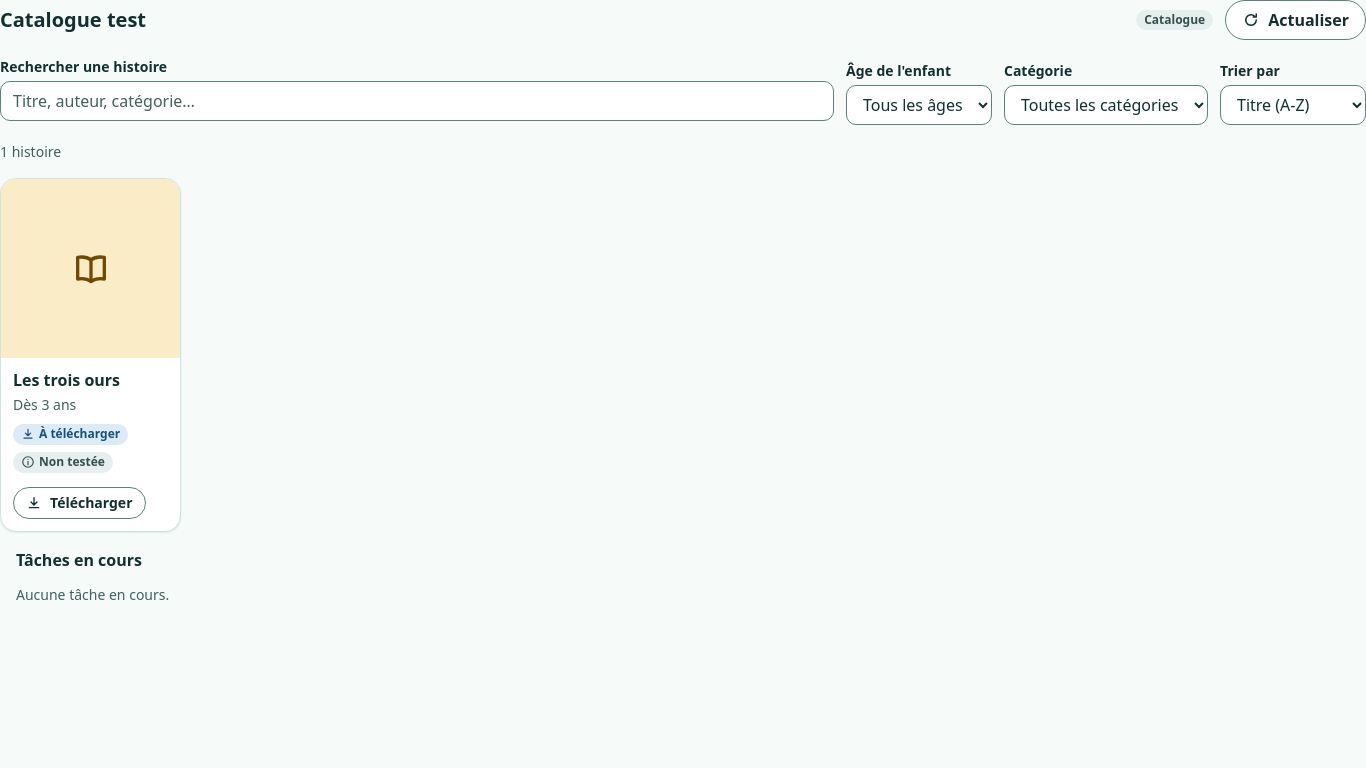
Scenario: erreur de conversion : message clair, Réessayer reprend « Télécharger et jouer »
Click the button "Les trois ours": [66, 380] box [13,370,120,390]
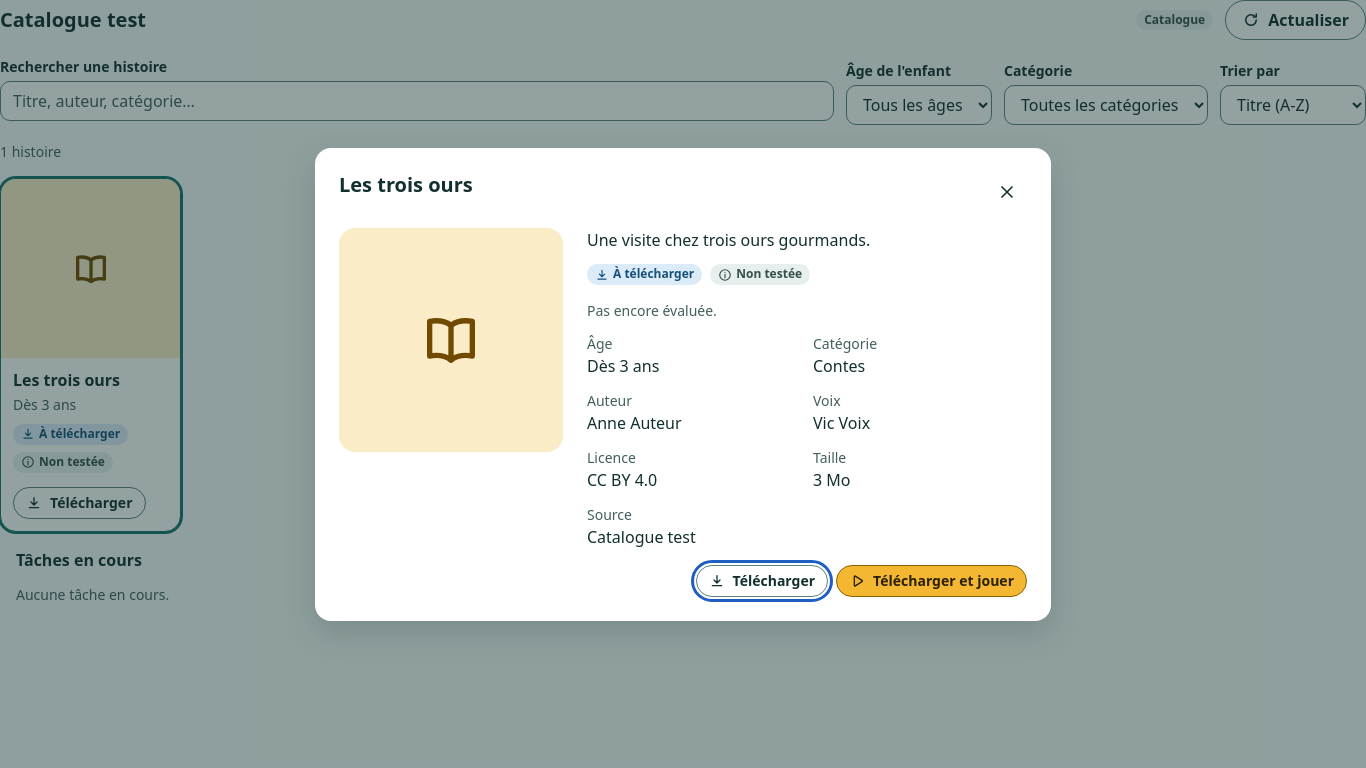
Click the button "Télécharger et jouer": [932, 580] box [836,564,1027,596]
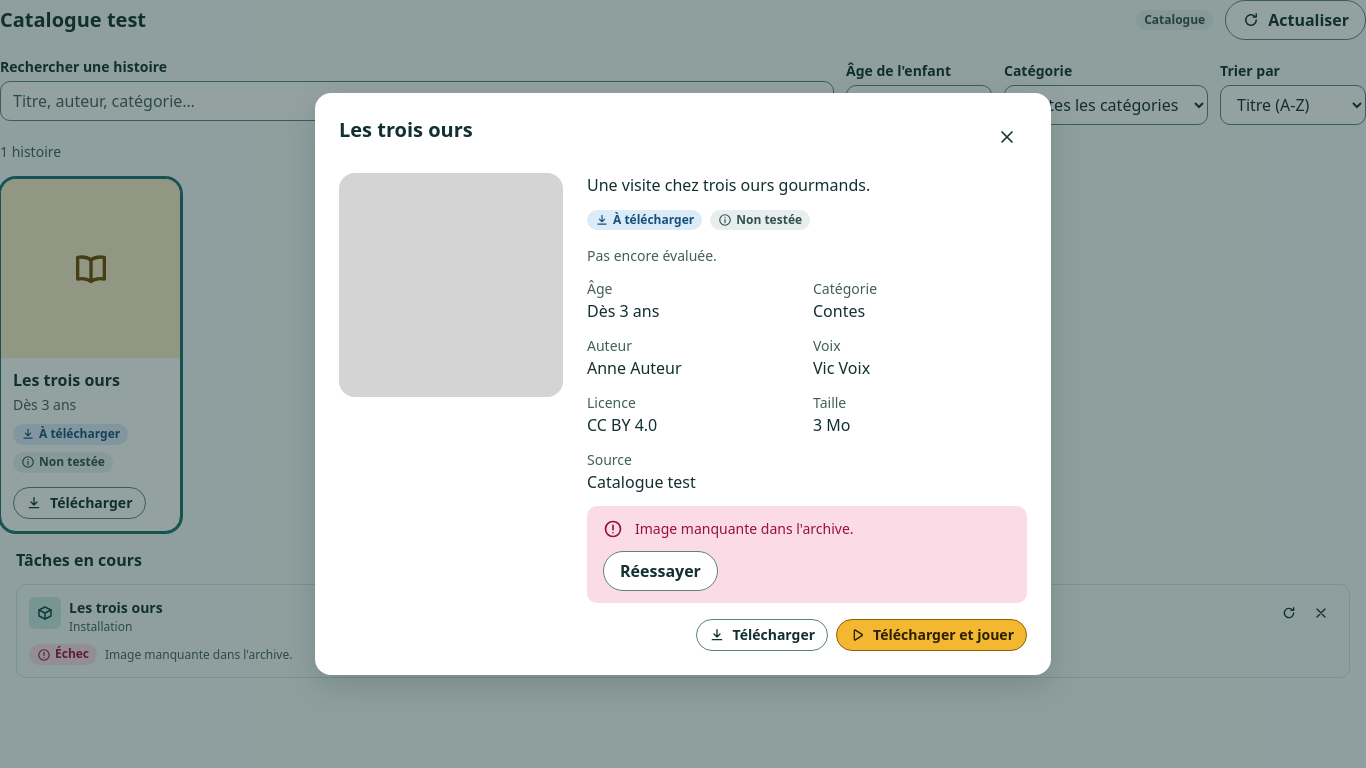
expect the text "Image manquante dans l'archive." next to "Échec" is shown: met, box [105,646,292,663]
expect the text "Échec" is shown: met, box [29,644,97,665]
expect the text "Image manquante dans l'archive." is shown: met, box [635,519,854,538]
Click the button "Réessayer": [660, 571] box [603,551,718,591]
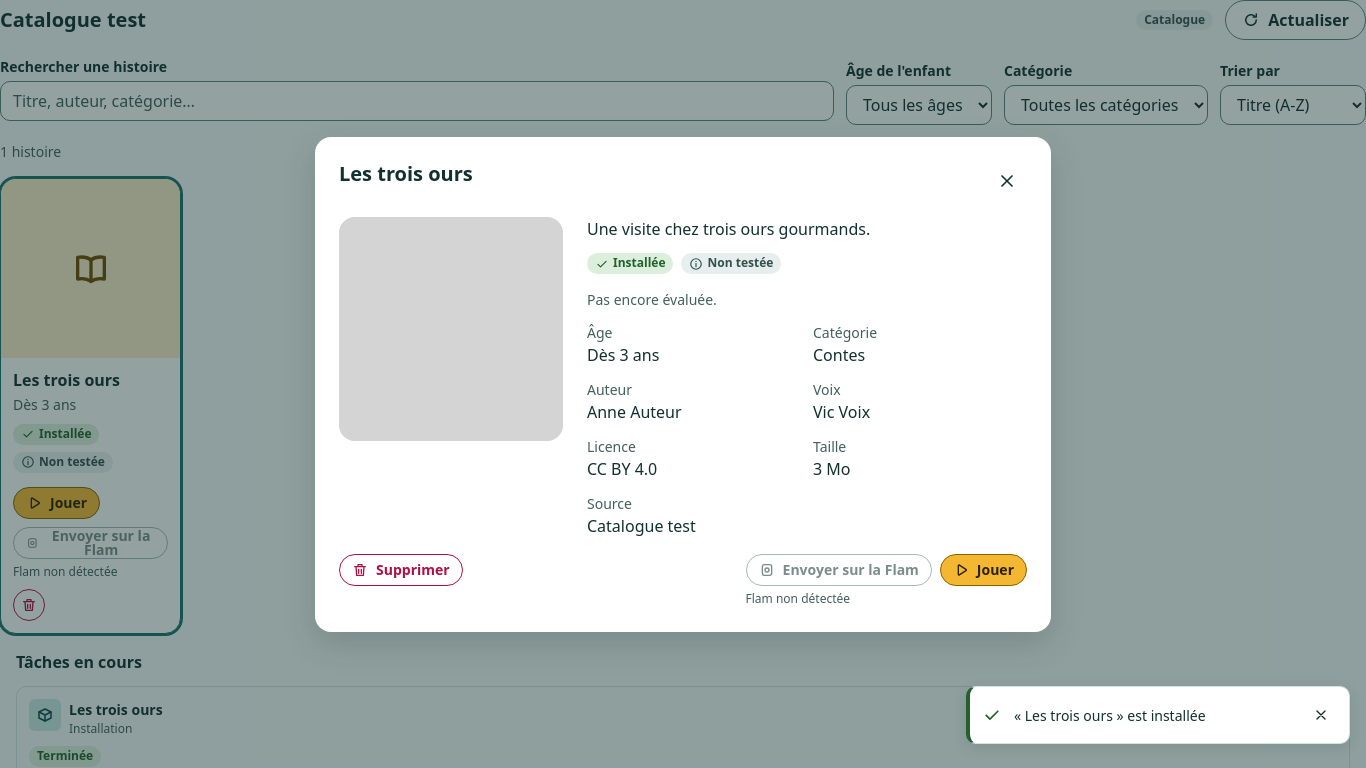
expect the text "Échec" is gone: met
